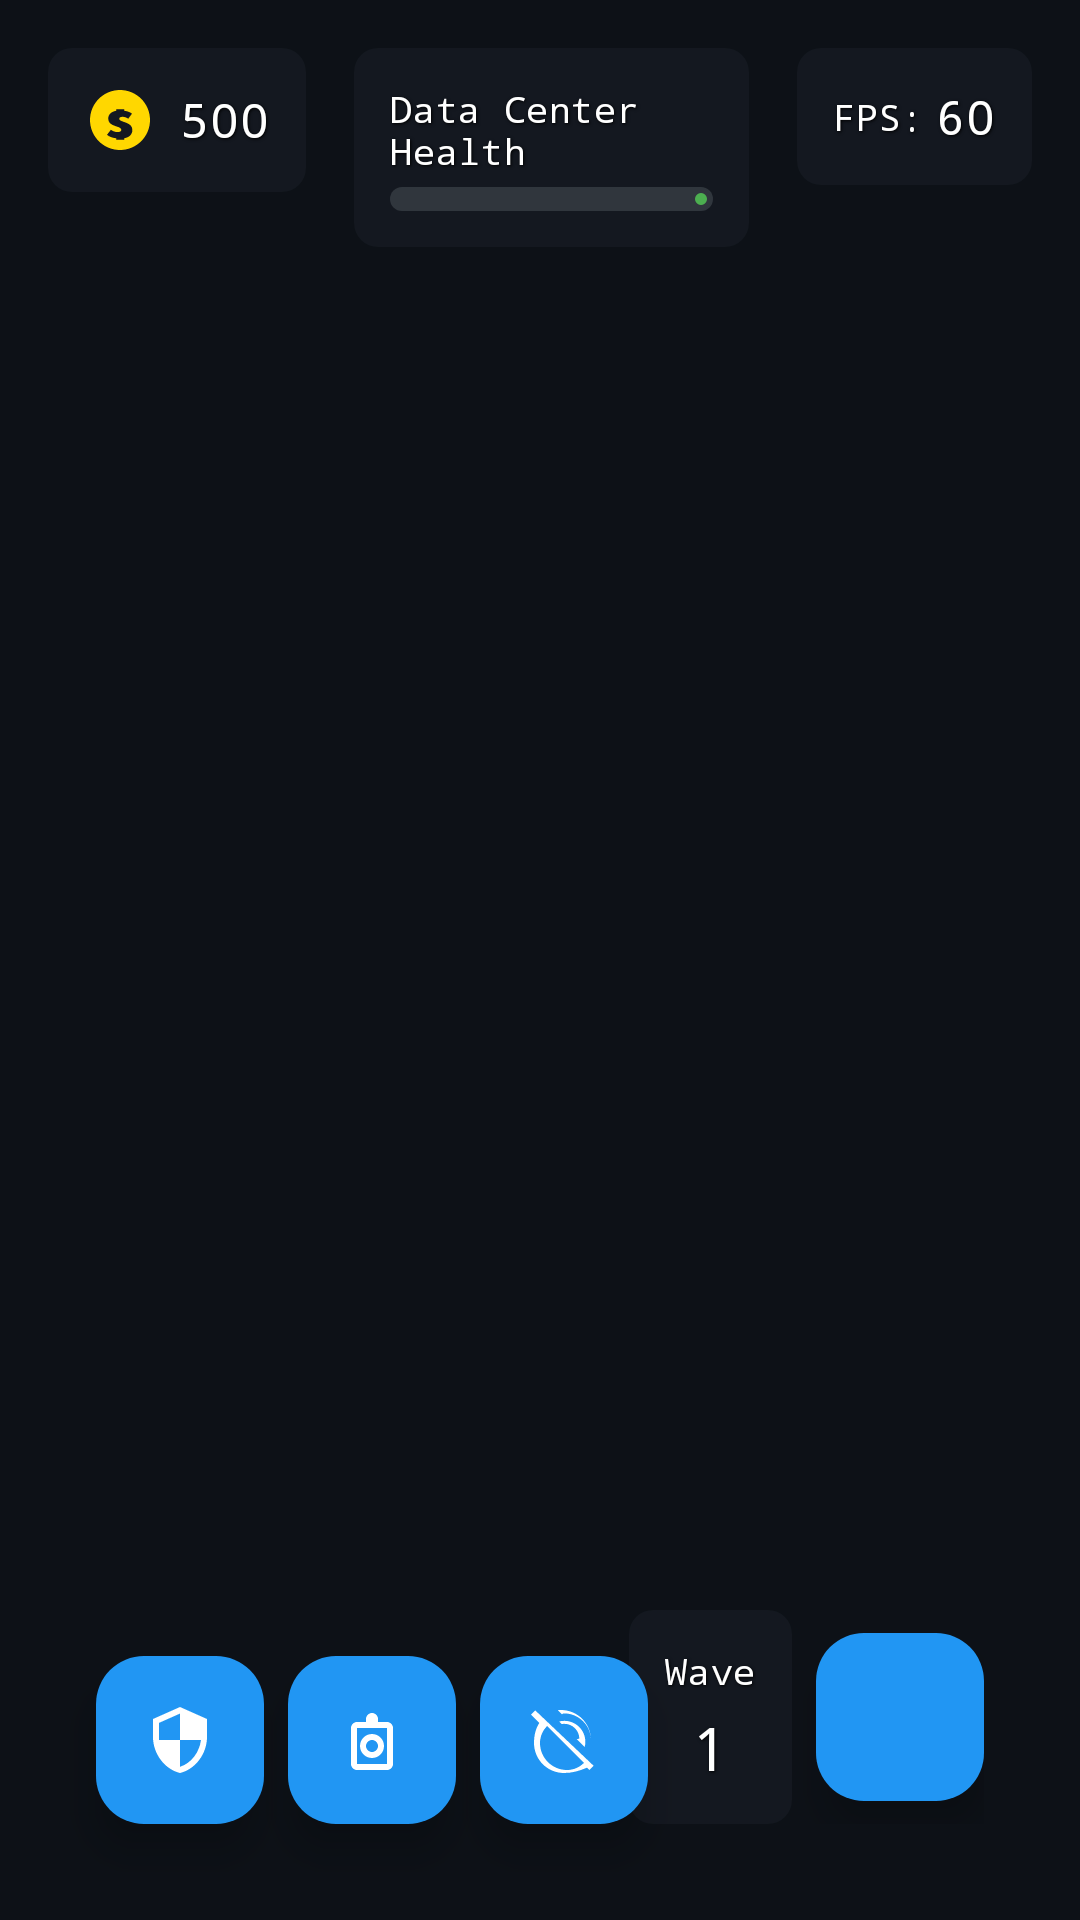

Named icons in this screenshot (1080px×1920px) and their bounding boxes, [x1=x1, y1=y1, x2=x2, y2=y2]:
Firewall Tower: [x1=96, y1=1656, x2=264, y2=1824]
Jammer Tower: [x1=480, y1=1656, x2=648, y2=1824]
Resources: [x1=90, y1=90, x2=150, y2=150]
